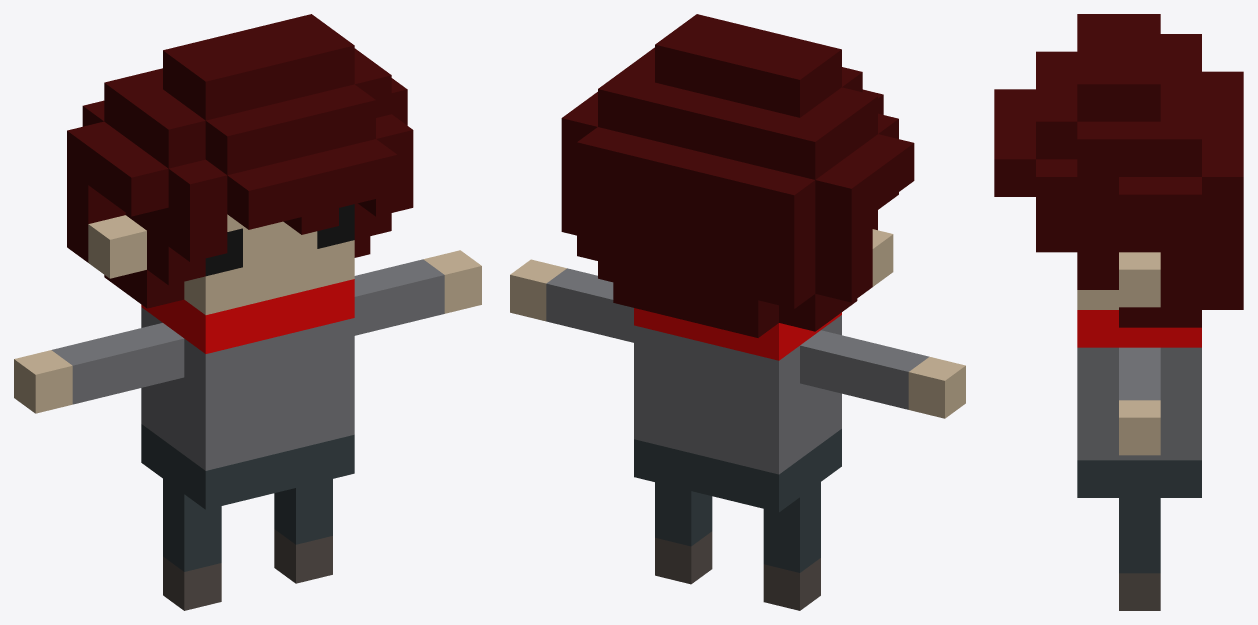
The model's file is Player.obj.
3 renders of one model, left to right at view 1: azimuth 30°, elevation 25°; view 2: azimuth 150°, elevation 25°; view 3: azimuth 270°, elevation 25°, orthographic. The views are drawn at different scales.
Bounding box in the file's own units: 1.2 × 1.4 × 0.6.
Materials: 1 (1 with a texture image).
